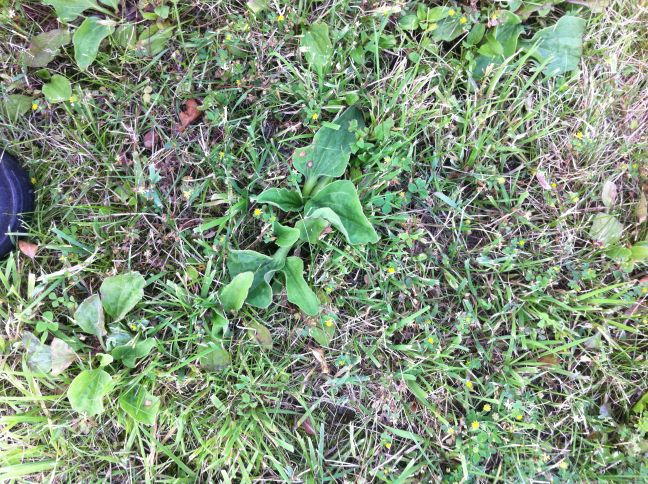weed1: (226, 106, 388, 331), (18, 267, 170, 435), (439, 3, 589, 77), (38, 1, 161, 65), (293, 19, 344, 114)
